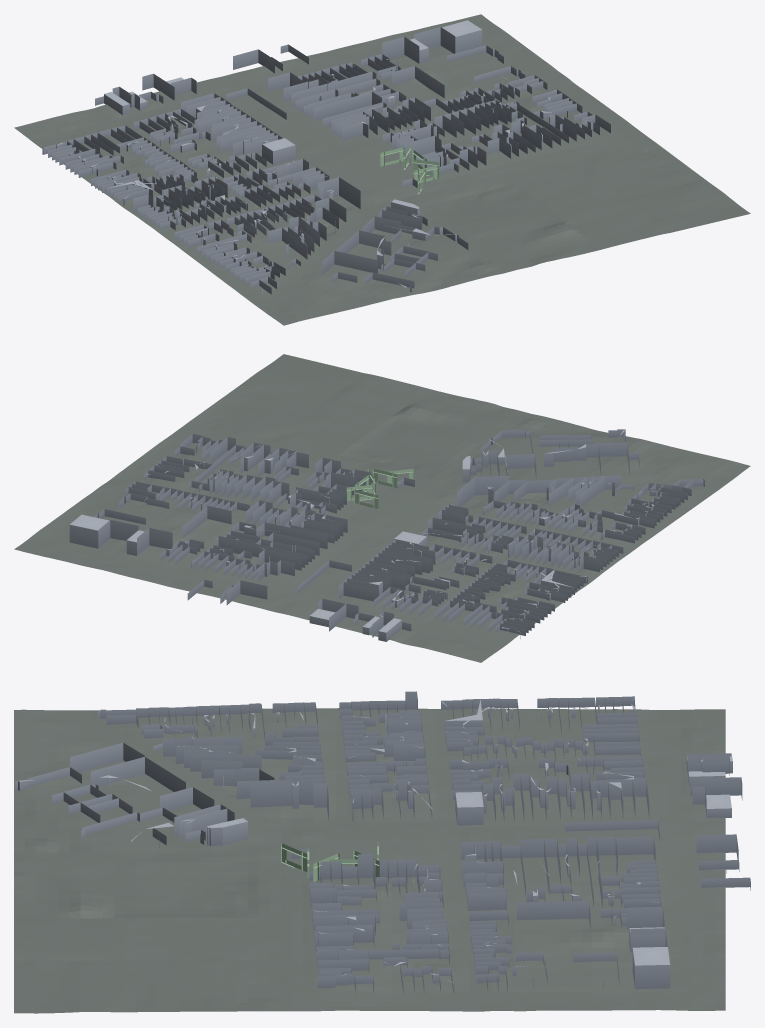
Rendered from fells-point_chisel_collider.glb.
3 views of the same model, one above another, from view 1: azimuth 30°, elevation 25°; view 2: azimuth 150°, elevation 25°; view 3: azimuth 270°, elevation 25° (orthographic). The views are drawn at different scales.
Parts seen in each view (by area): view 1: DISTRICT_CHISEL_COLLIDER; view 2: DISTRICT_CHISEL_COLLIDER; view 3: DISTRICT_CHISEL_COLLIDER.
Boxes of the visible parts, box(x1,y1,x2,y2) form: DISTRICT_CHISEL_COLLIDER: box(14, 14, 750, 325); DISTRICT_CHISEL_COLLIDER: box(14, 354, 750, 662); DISTRICT_CHISEL_COLLIDER: box(14, 691, 750, 1013).
Size of the model in its own units: 162 by 7.03 by 166.
